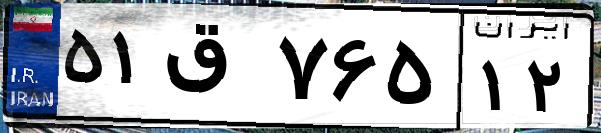1: (475, 38, 525, 113), (110, 28, 158, 98)
2: (525, 38, 570, 115)
5: (385, 28, 445, 110), (57, 26, 110, 100)
6: (330, 28, 385, 110)
7: (270, 28, 330, 110)
ق: (158, 20, 270, 120)
